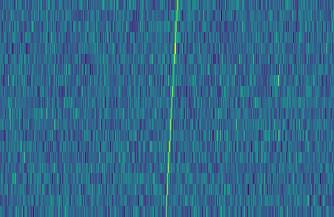signal: (160, 0, 181, 217)
